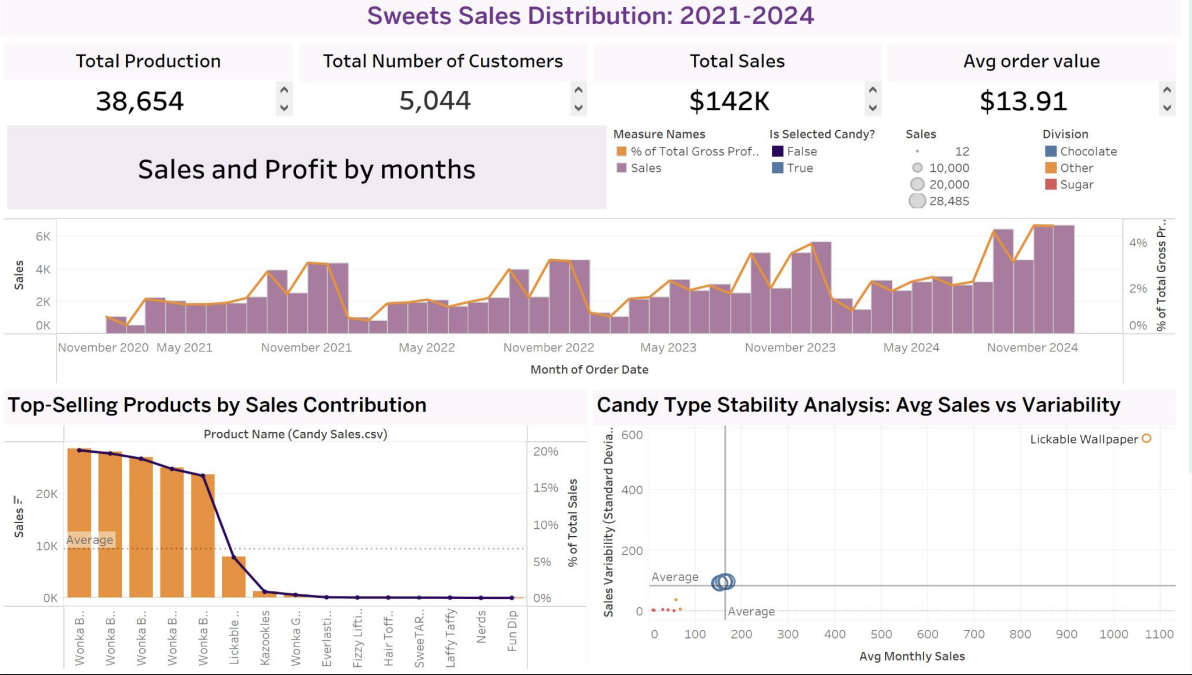

What the dashboard file says about the page in this screenshot:
{"tool":"tableau","page":{"name":"Dashboard 3 ","canvas":[1000,1000],"units":"permille","ordinal":1},"visuals":[{"type":"text","box":[0,0,1000.8,59.9]},{"type":"worksheet","title":"Sheet 6","mark":"Text","box":[0,66.9,250.3,116.2]},{"type":"worksheet","title":"Sheet 7","mark":"Automatic","box":[250.3,66.9,249.7,116.2]},{"type":"worksheet","title":"Sheet 8","mark":"Automatic","box":[500,66.9,249.7,116.2]},{"type":"worksheet","title":"Sheet 8 (2)","mark":"Text","box":[749.7,66.9,249.7,116.2]},{"type":"text","box":[2.8,187.8,513.7,133.8]},{"type":"legend","title":"Sheet 11","param":"[federated.1dmh8h317id7i41ch9q970680nju].[:Measure Names]","box":[516.4,187.8,132.4,133.8]},{"type":"legend","title":"Sheet 13","param":"[federated.1dmh8h317id7i41ch9q970680nju].[none:Calculation_887490606229508098:nk","box":[648.9,187.8,115.9,133.8]},{"type":"legend","title":"Sheet 14","param":"[federated.1dmh8h317id7i41ch9q970680nju].[sum:Sales:qk]","box":[764.7,187.8,115.9,133.8]},{"type":"legend","title":"Sheet 14","param":"[federated.1dmh8h317id7i41ch9q970680nju].[none:Division:nk]","box":[880.6,187.8,115.9,133.8]},{"type":"worksheet","title":"Sheet 11","mark":"Bar","rows":["Sales","Gross Profit"],"cols":["Order Date"],"box":[0,326.3,999.2,255.9]},{"type":"worksheet","title":"Sheet 13","mark":"Automatic","rows":["Sales","Sales"],"cols":["Product Name (Candy_Sales.csv)"],"box":[0,582.2,500,417.8]},{"type":"worksheet","title":"Sheet 14","mark":"Automatic","rows":["Calculation_2494149773296517120"],"cols":["Calculation_2494149773296664577"],"box":[500,582.2,499.3,417.8]}]}

Visuals, with their boxes on the dashboard's canvas, which has no fixed pixel size, in thousandths of its width and height (x1, y1, x2, y2). These are canvas units, not pixel positions in the 1192x675 screenshot, which may show the page scaled, cropped or inside an application window:
text: box(0, 0, 1001, 60)
"Sheet 6" worksheet (Text marks): box(0, 67, 250, 183)
"Sheet 7" worksheet: box(250, 67, 500, 183)
"Sheet 8" worksheet: box(500, 67, 750, 183)
"Sheet 8 (2)" worksheet (Text marks): box(750, 67, 999, 183)
text: box(3, 188, 516, 322)
"Sheet 11" legend: box(516, 188, 649, 322)
"Sheet 13" legend: box(649, 188, 765, 322)
"Sheet 14" legend: box(765, 188, 881, 322)
"Sheet 14" legend: box(881, 188, 996, 322)
"Sheet 11" worksheet (Bar marks): box(0, 326, 999, 582)
"Sheet 13" worksheet: box(0, 582, 500, 1000)
"Sheet 14" worksheet: box(500, 582, 999, 1000)
